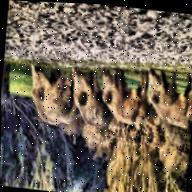boar: (60, 50, 116, 150), (96, 51, 157, 138), (19, 51, 80, 129), (142, 56, 192, 131)
